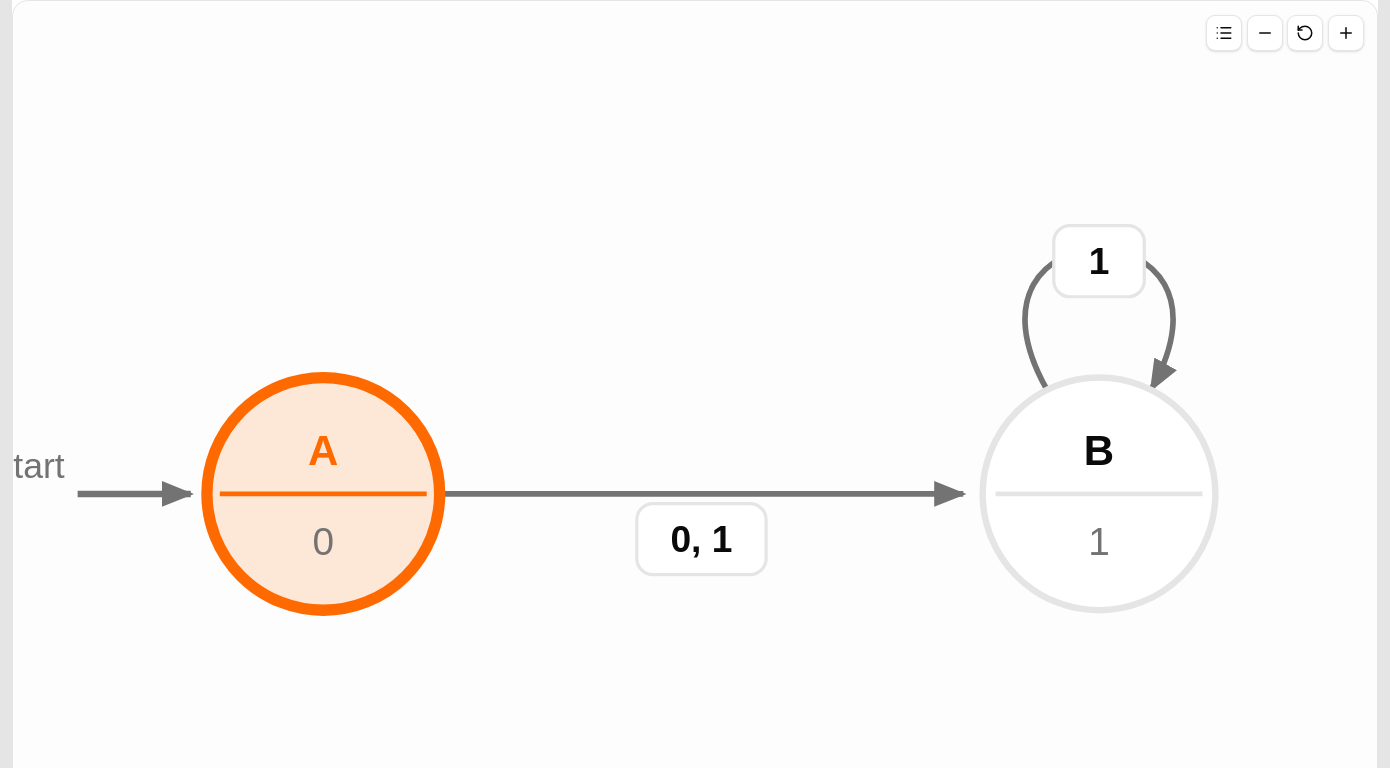
Test case: StateMachineGraph › toggles edge-label layout and supports zoom/reset controls
Click the button with test id "machine-label-layout-toggle". click: point(1224, 32)
box: [1206,14,1242,50]
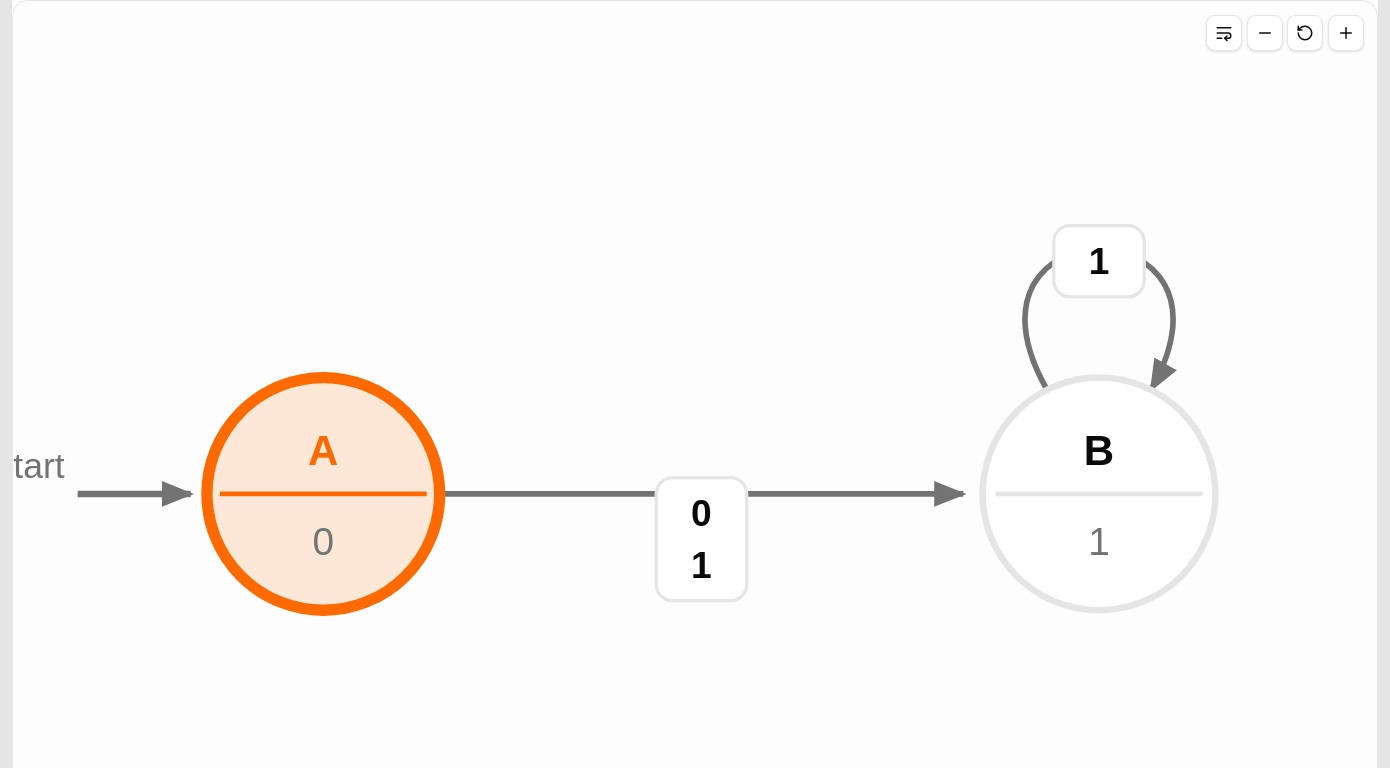
Click the button with test id "machine-zoom-in". click: point(1346, 32)
box: [1328,14,1364,50]
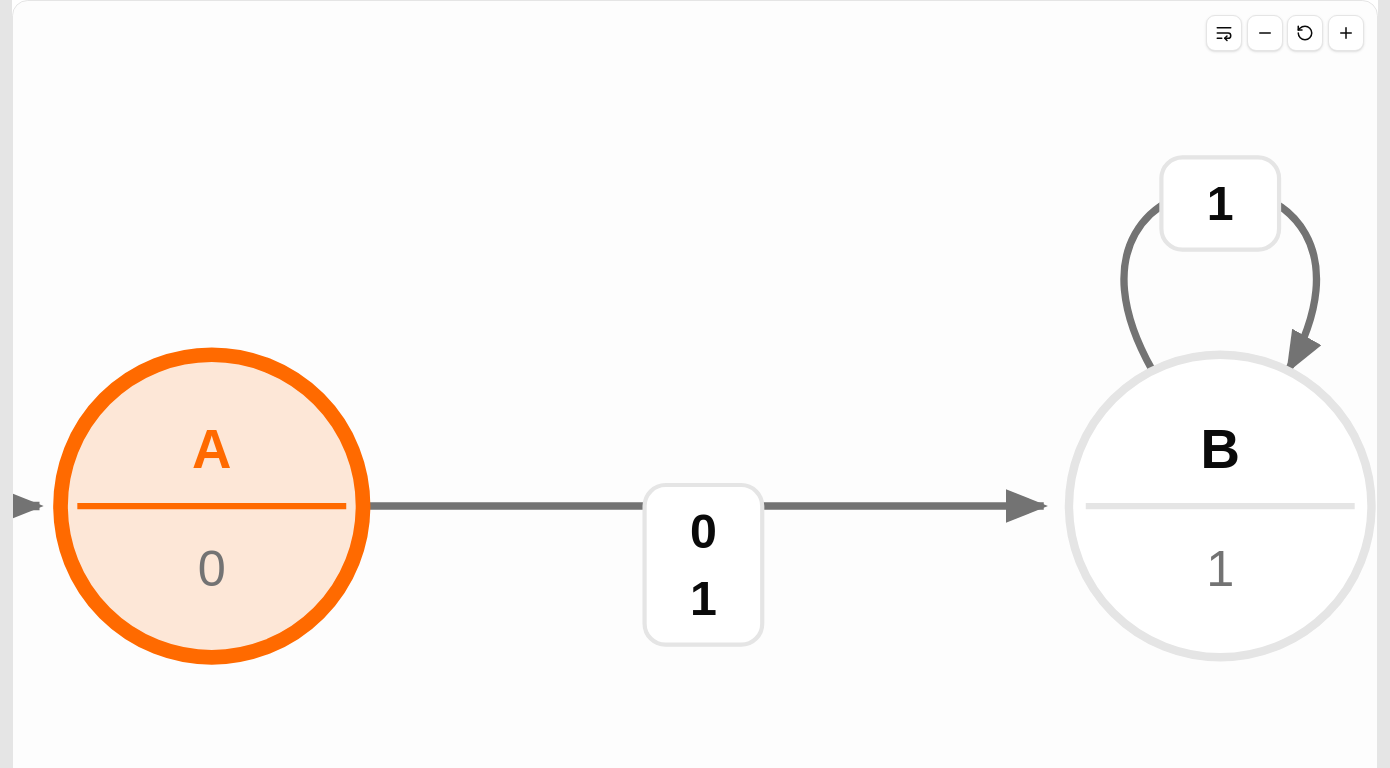
Click the button with test id "machine-reset-view". click: point(1305, 32)
box: [1287,14,1323,50]
(page scrolled)
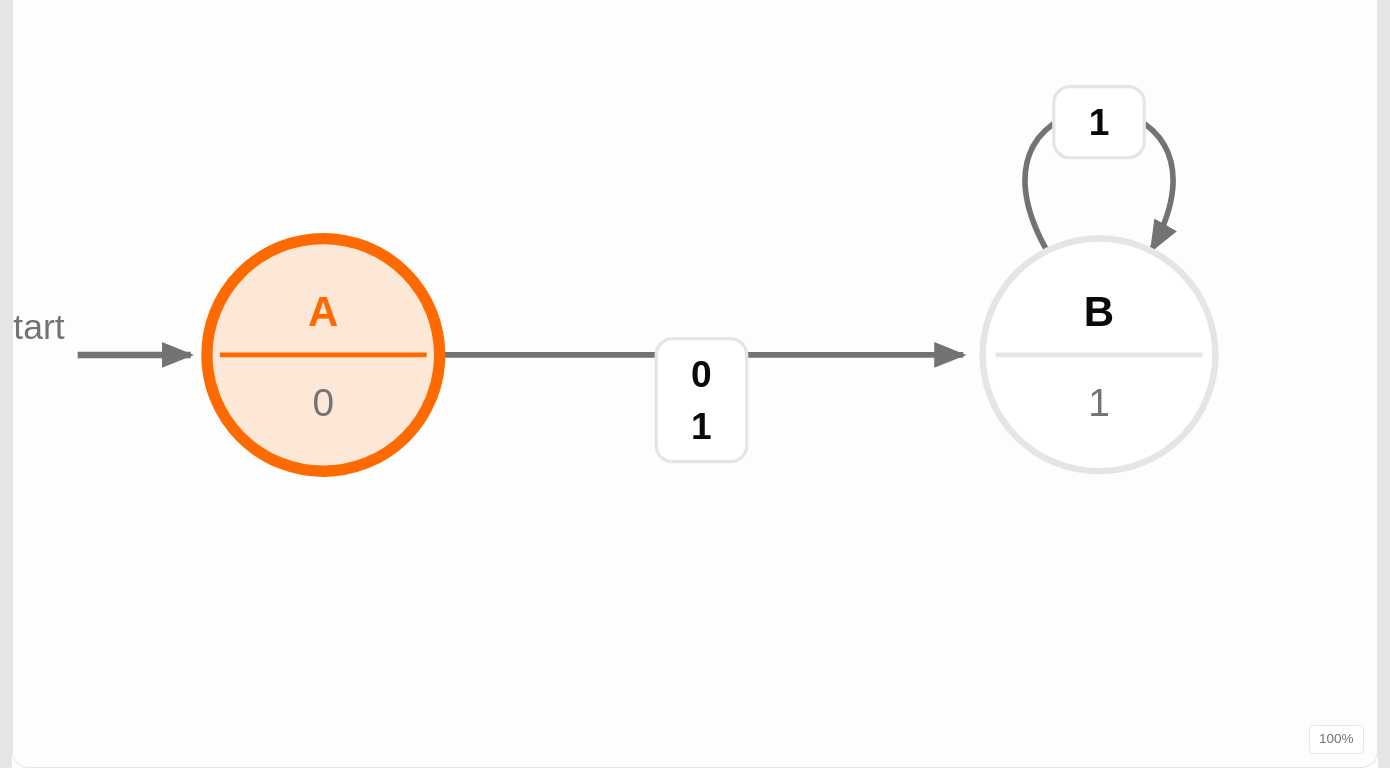
Now the button with test id "machine-zoom-percent-reset" reads "100%", box [1309,724,1364,754]
